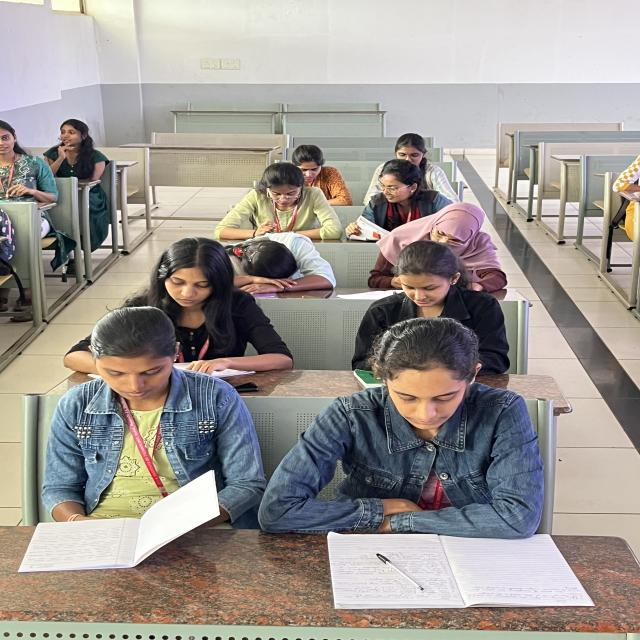Reading: (307, 309, 618, 621), (100, 235, 265, 401)
Sleeping: (215, 224, 347, 306)
Using Phone: (27, 304, 256, 488)
